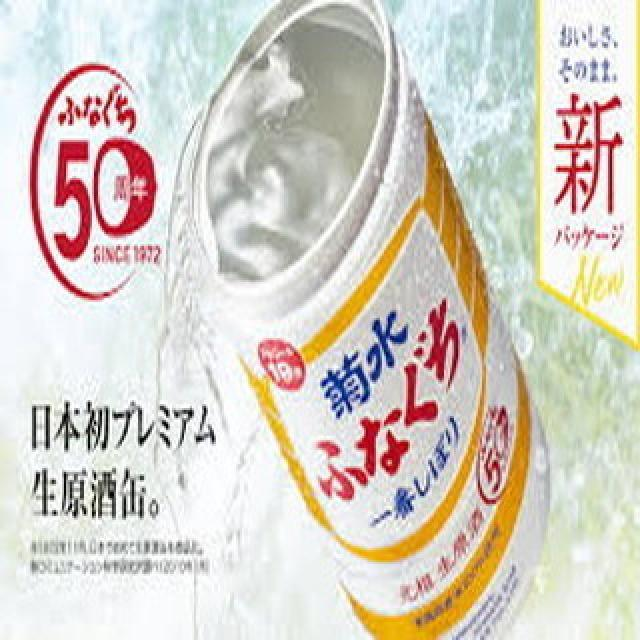can: (183, 0, 550, 640)
